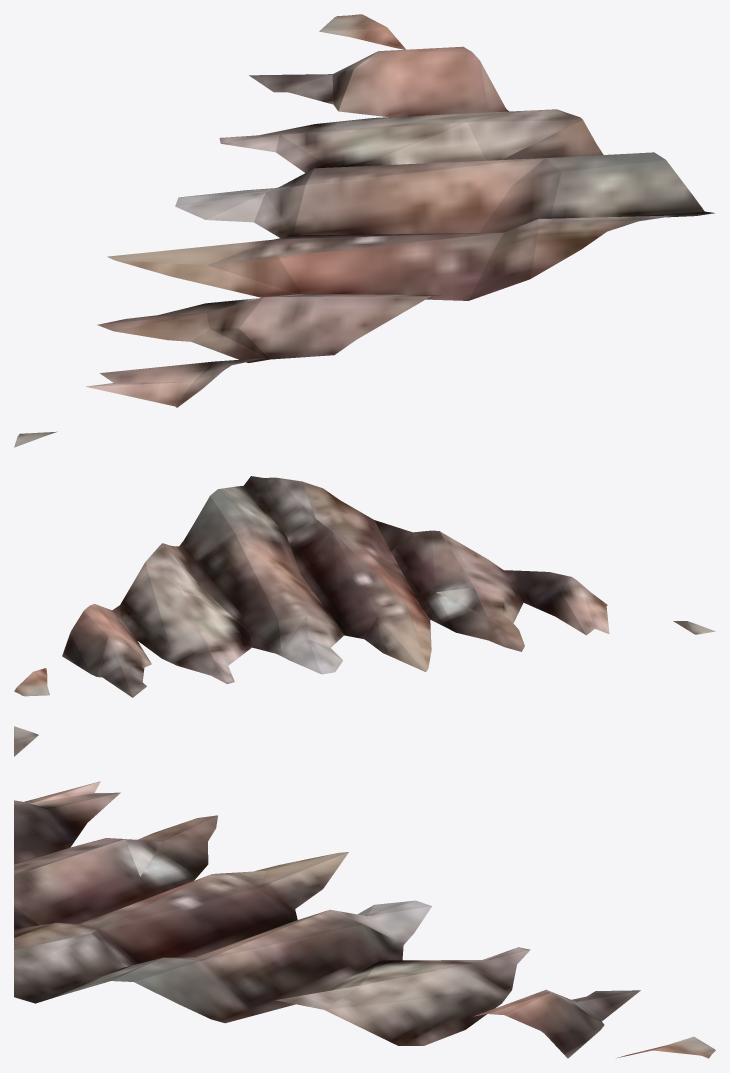
The picture shows the model from 3 angles, top to bottom: view 1: azimuth 30°, elevation 25°; view 2: azimuth 150°, elevation 25°; view 3: azimuth 270°, elevation 25°; orthographic projection. The views are drawn at different scales.
Bounding box in the file's own units: 1.13 × 0.1236 × 1.01.
Materials: 1 (1 with a texture image).
